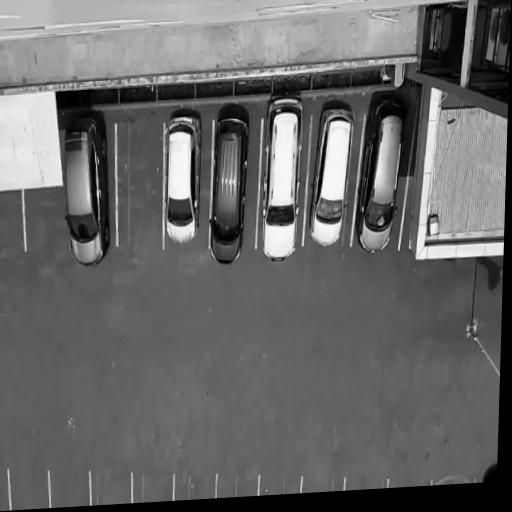Car: (353, 88, 407, 257), (58, 113, 115, 267), (257, 87, 303, 270), (305, 101, 356, 254), (207, 110, 249, 269), (159, 109, 201, 250)
Space Available: (111, 116, 167, 256), (25, 190, 69, 261), (7, 466, 51, 510), (172, 461, 217, 501), (89, 467, 131, 506), (131, 468, 174, 503), (0, 191, 24, 252), (48, 473, 90, 507), (257, 467, 301, 494), (215, 470, 260, 496), (389, 470, 434, 488), (344, 474, 387, 488), (301, 477, 343, 491), (0, 469, 9, 511), (433, 477, 477, 485)
